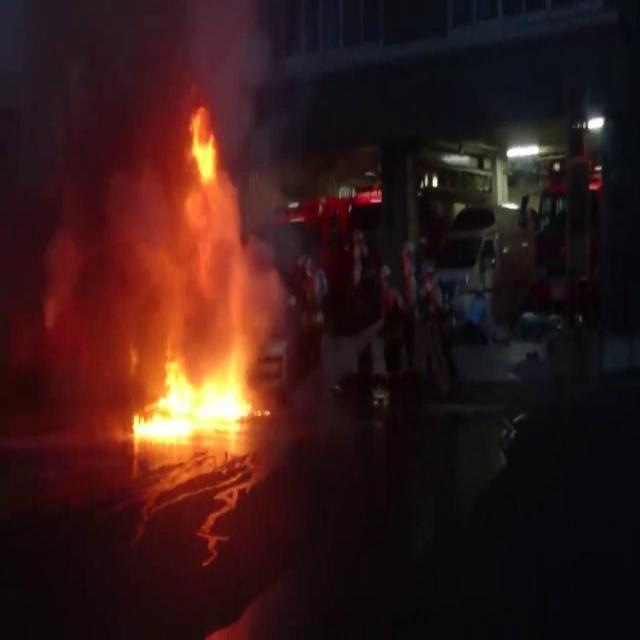fire: (117, 88, 282, 451)
